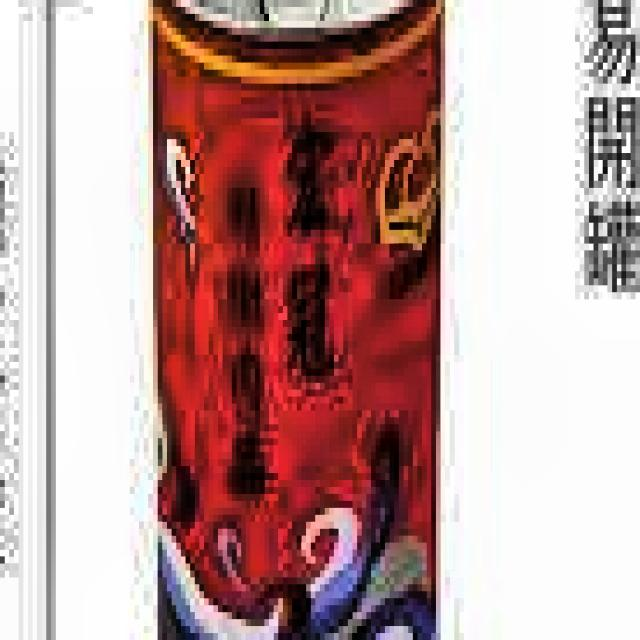metal: (134, 0, 464, 640)
